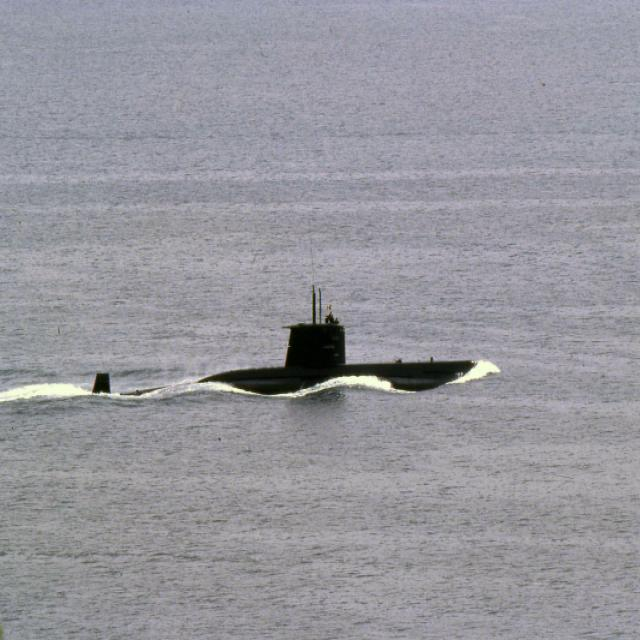submarine: (93, 305, 482, 392)
